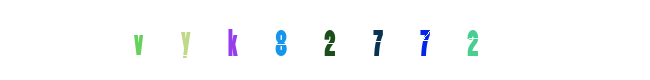2: (285, 0, 365, 80), (384, 0, 464, 80)
7: (300, 0, 380, 80), (310, 0, 390, 80)
8: (252, 0, 332, 80)
K: (243, 0, 323, 80)
V: (176, 0, 256, 80)
Y: (197, 0, 277, 80)
